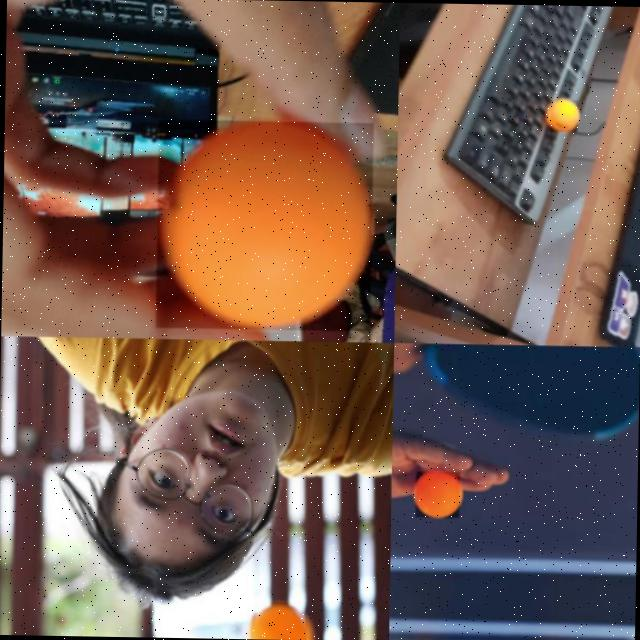ping-pong-ball: (153, 117, 374, 330), (250, 598, 308, 640), (414, 469, 460, 516), (548, 96, 578, 131)
